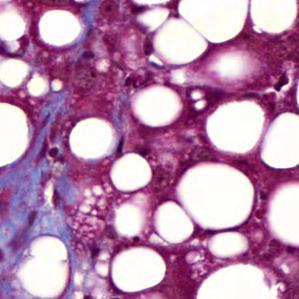steatosis: (107, 247, 167, 294), (0, 101, 31, 167), (37, 8, 82, 51), (111, 153, 154, 192)
